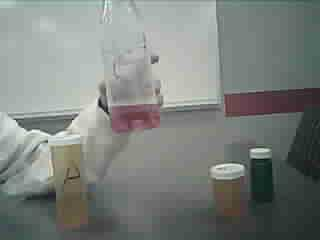Bottle A: (45, 133, 97, 233)
Bottle B: (208, 156, 247, 229)
Bottle C: (249, 142, 284, 208)
hazard: (100, 2, 166, 132)
